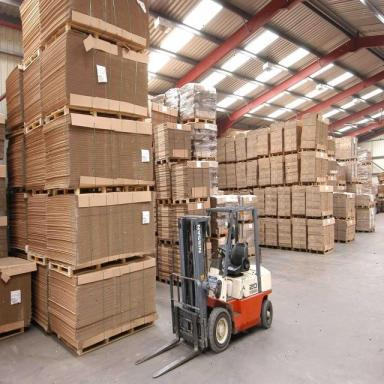forklift: (136, 203, 274, 379)
